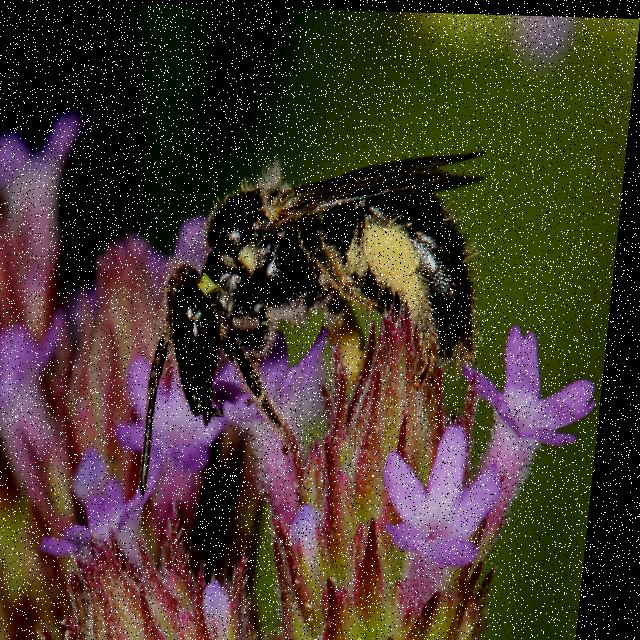Braunsapis: (117, 123, 515, 476)
